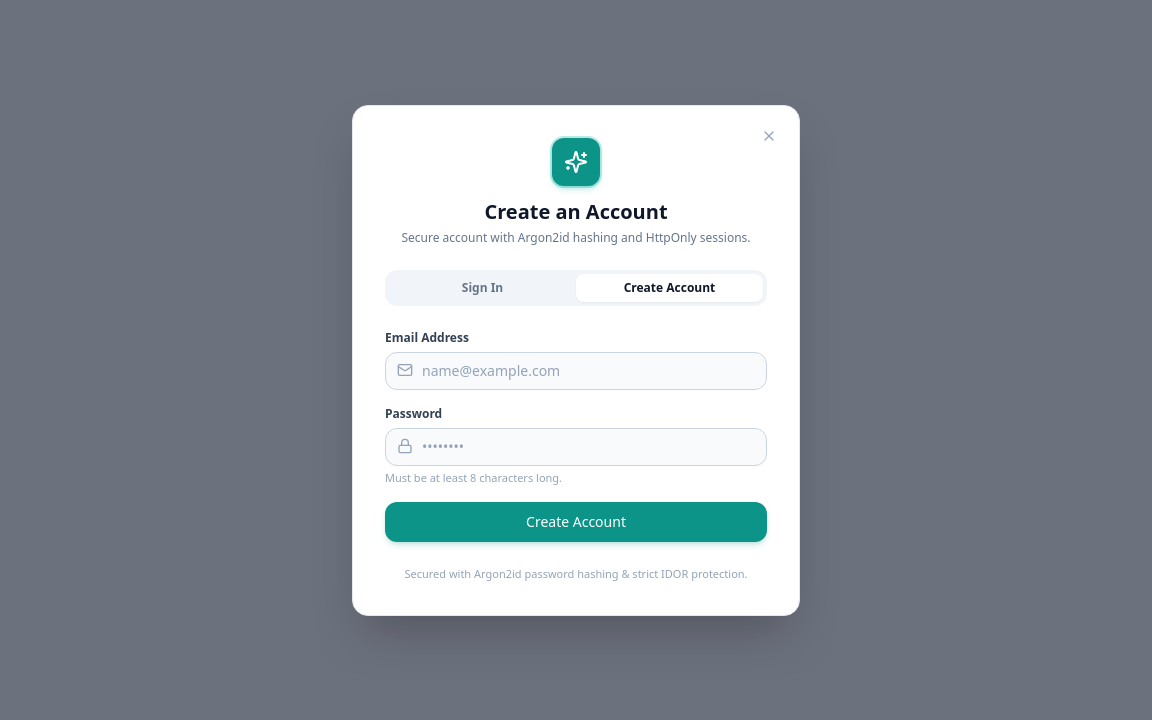
AuthModal Component › validates password minimum length for registration
Type "user@example.com" into the field with placeholder "name@example.com". click: coordinates (576, 370)
box: left=385, top=352, right=767, bottom=390
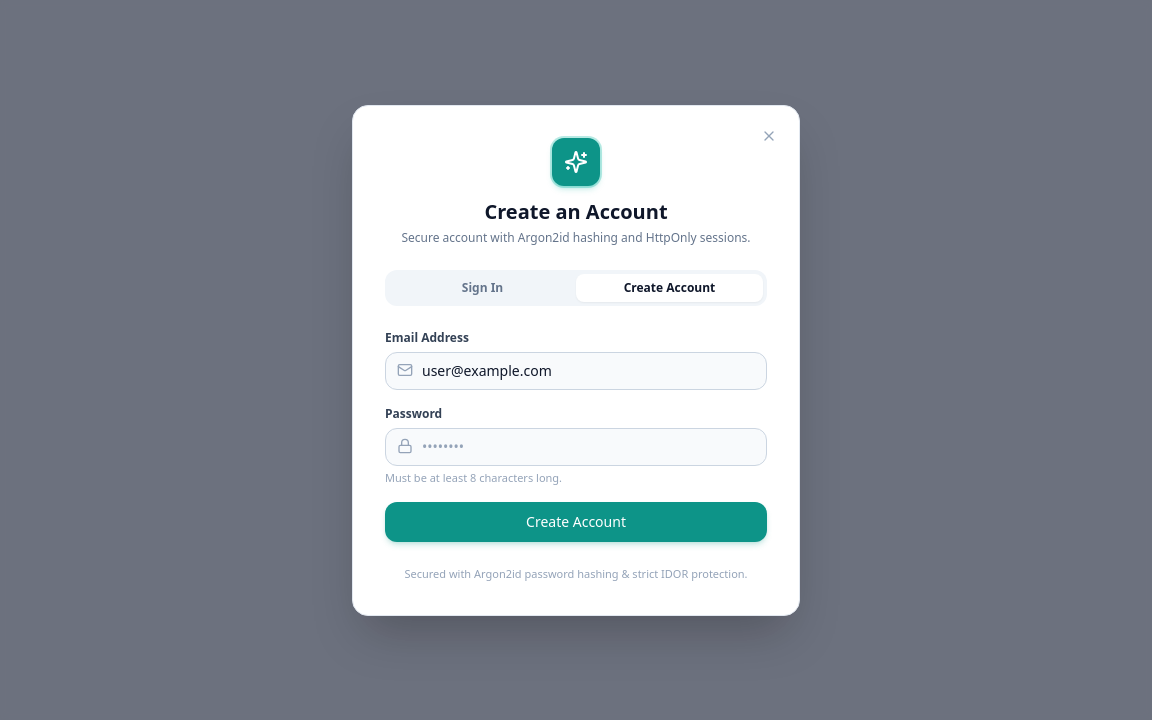
Type "short" into the password field with placeholder "••••••••". click: coordinates (576, 446)
box: left=385, top=428, right=767, bottom=466
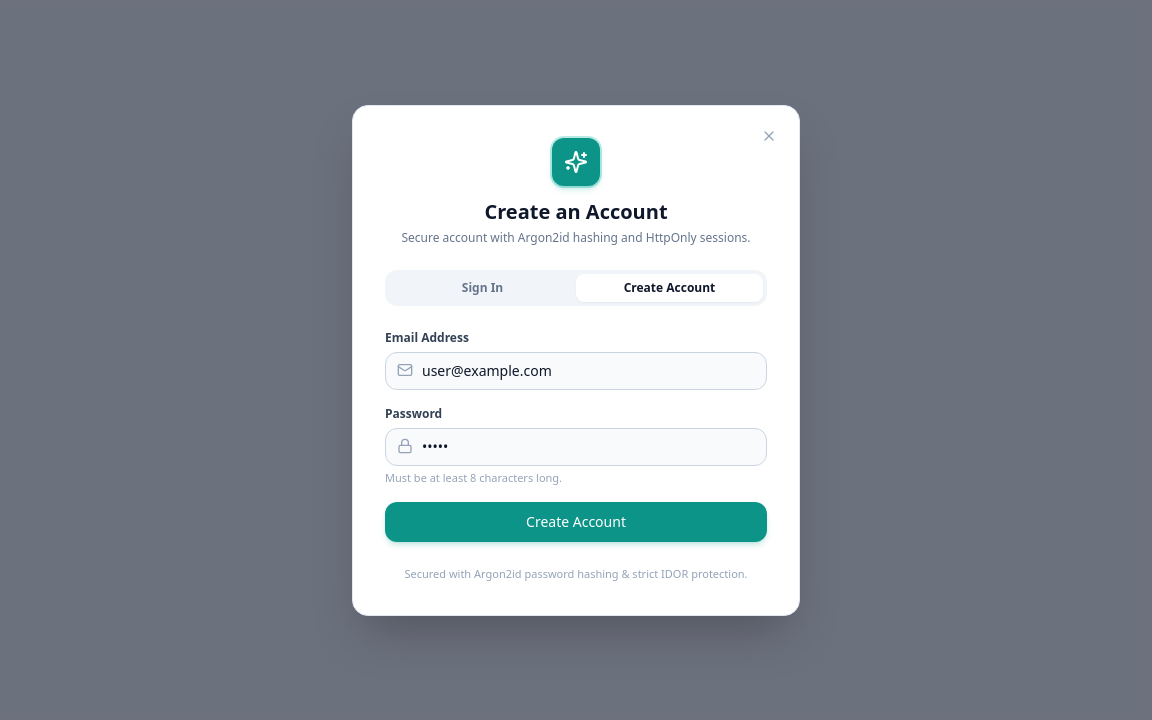
Click the submit button. click: coordinates (576, 522)
box: left=385, top=502, right=767, bottom=542
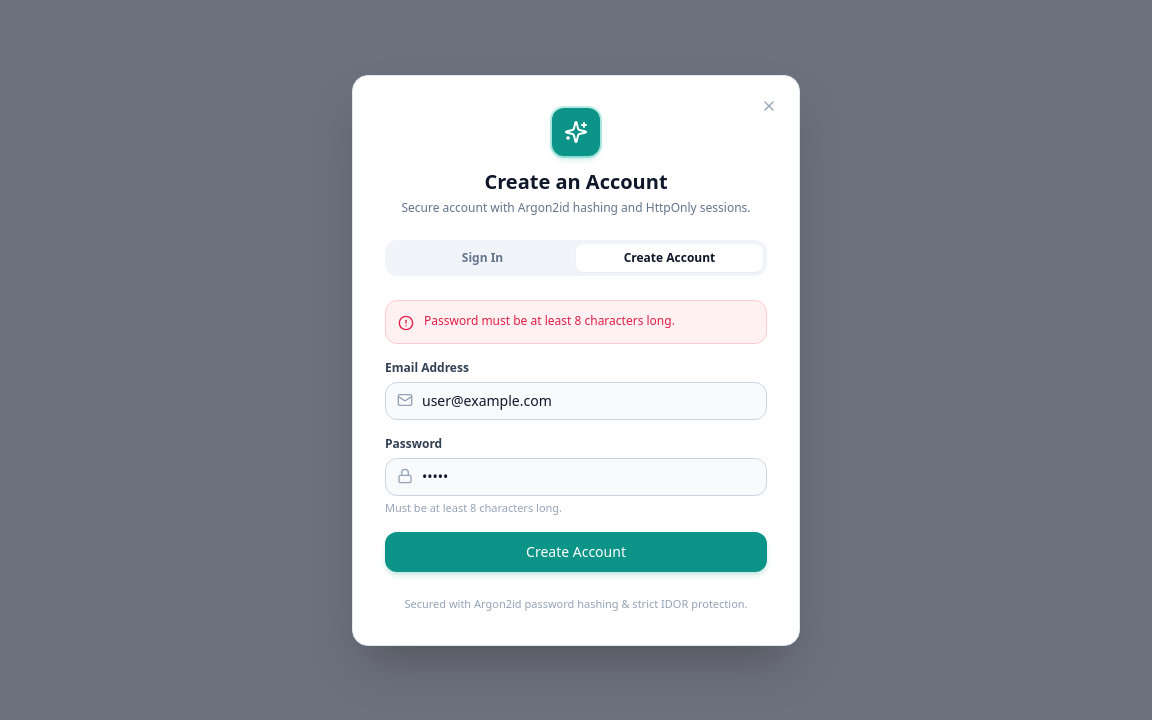
Result: the text "Password must be at least 8 characters long." is shown at left=424, top=312, right=675, bottom=328
